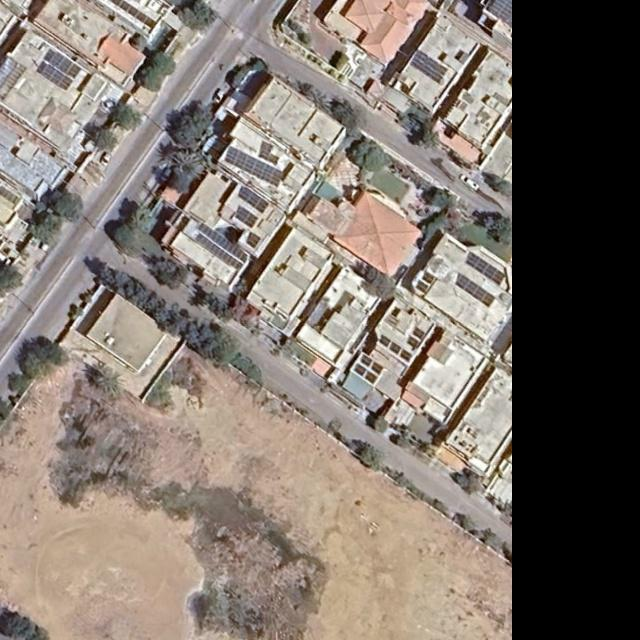solar panel: (224, 146, 282, 187), (198, 223, 248, 263), (194, 233, 243, 272), (455, 272, 496, 308), (464, 251, 506, 285), (410, 50, 449, 84), (108, 0, 155, 28), (43, 49, 81, 79), (36, 62, 73, 90), (238, 186, 269, 213), (487, 0, 512, 27), (256, 140, 279, 166), (235, 206, 259, 228)
